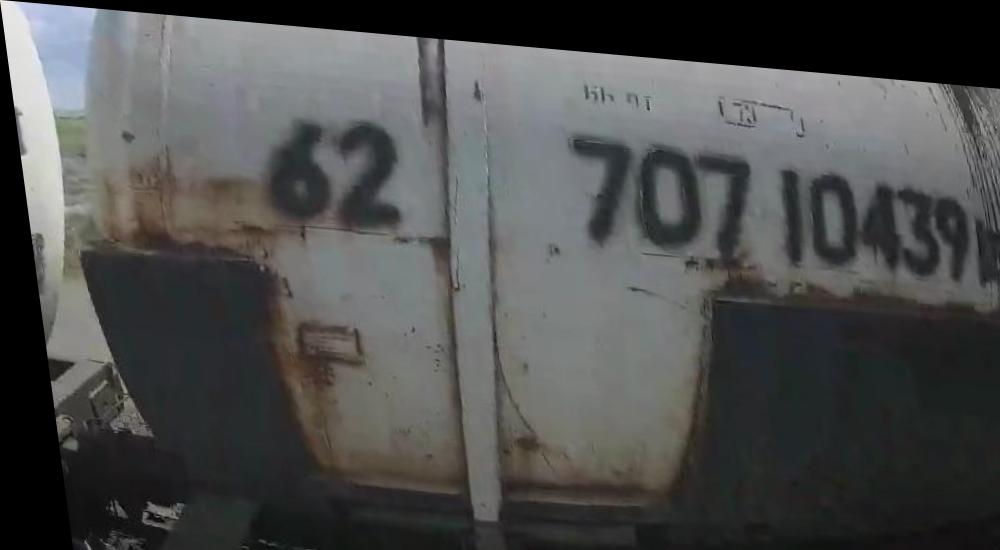Wagon-number: (563, 118, 975, 273)
